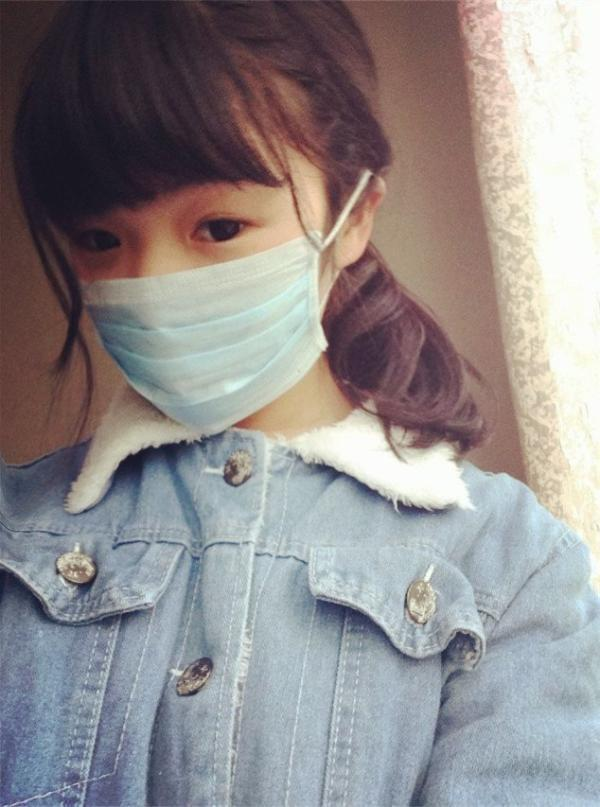face_mask: (61, 111, 327, 431)
